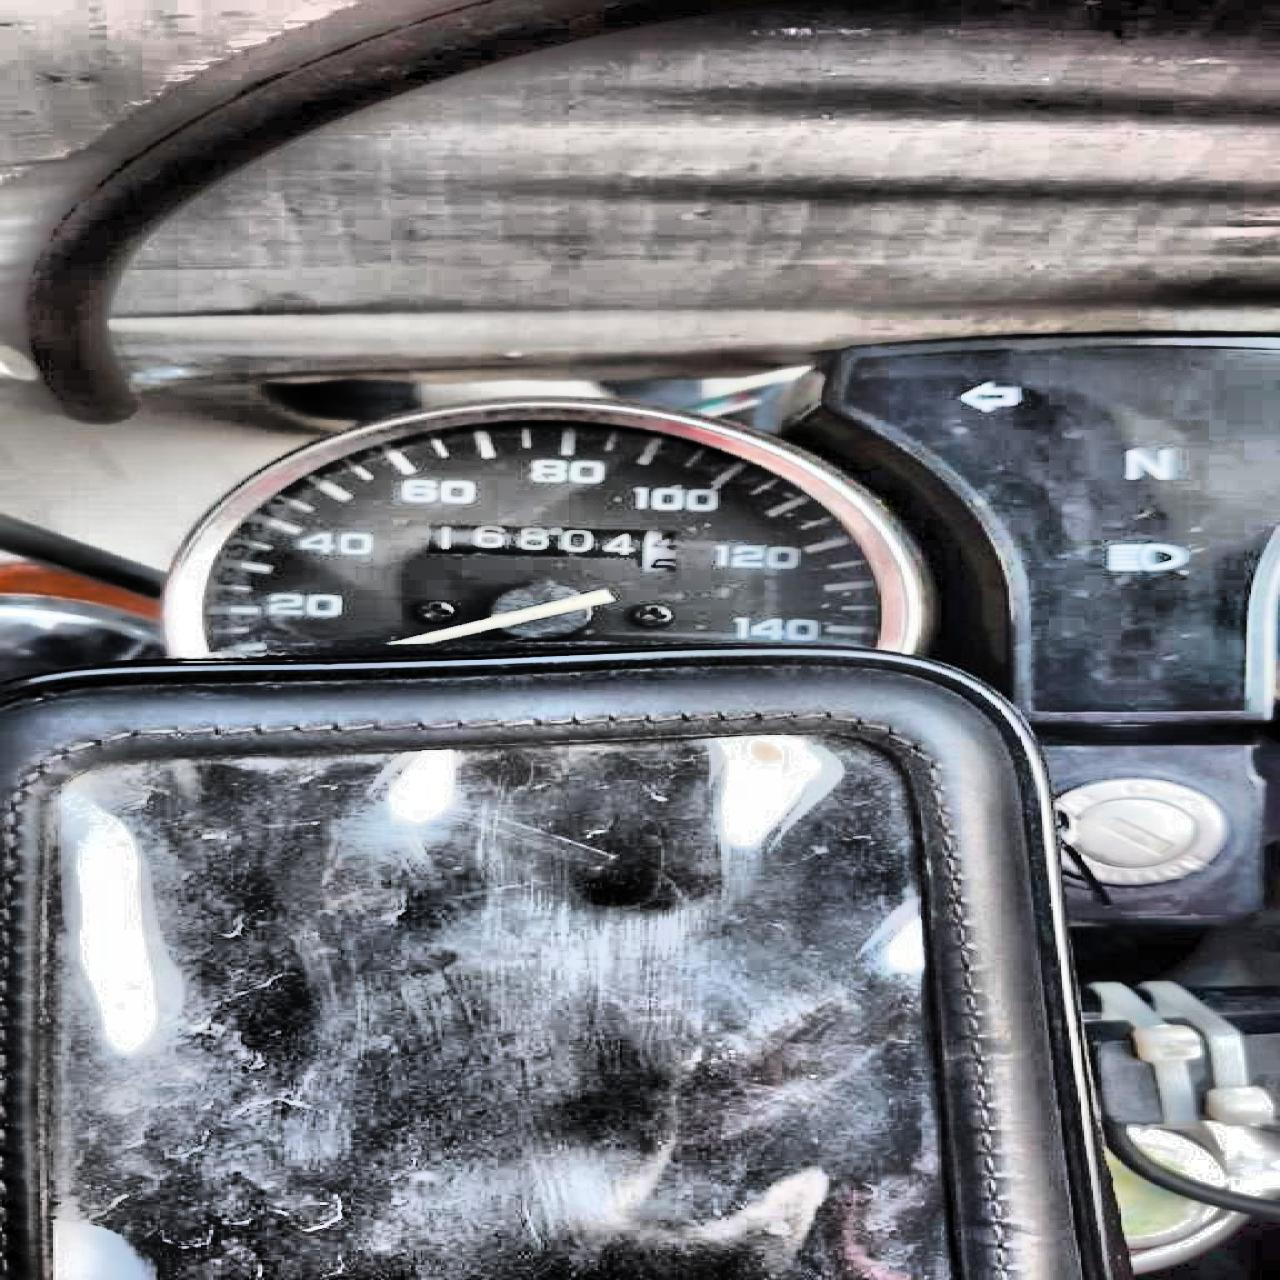0: (560, 527, 591, 551)
1: (438, 525, 449, 550)
4: (602, 531, 633, 554), (649, 531, 678, 551)
5: (645, 556, 675, 576)
6: (471, 525, 505, 547)
8: (518, 526, 549, 549)
odometer: (420, 522, 682, 573)
